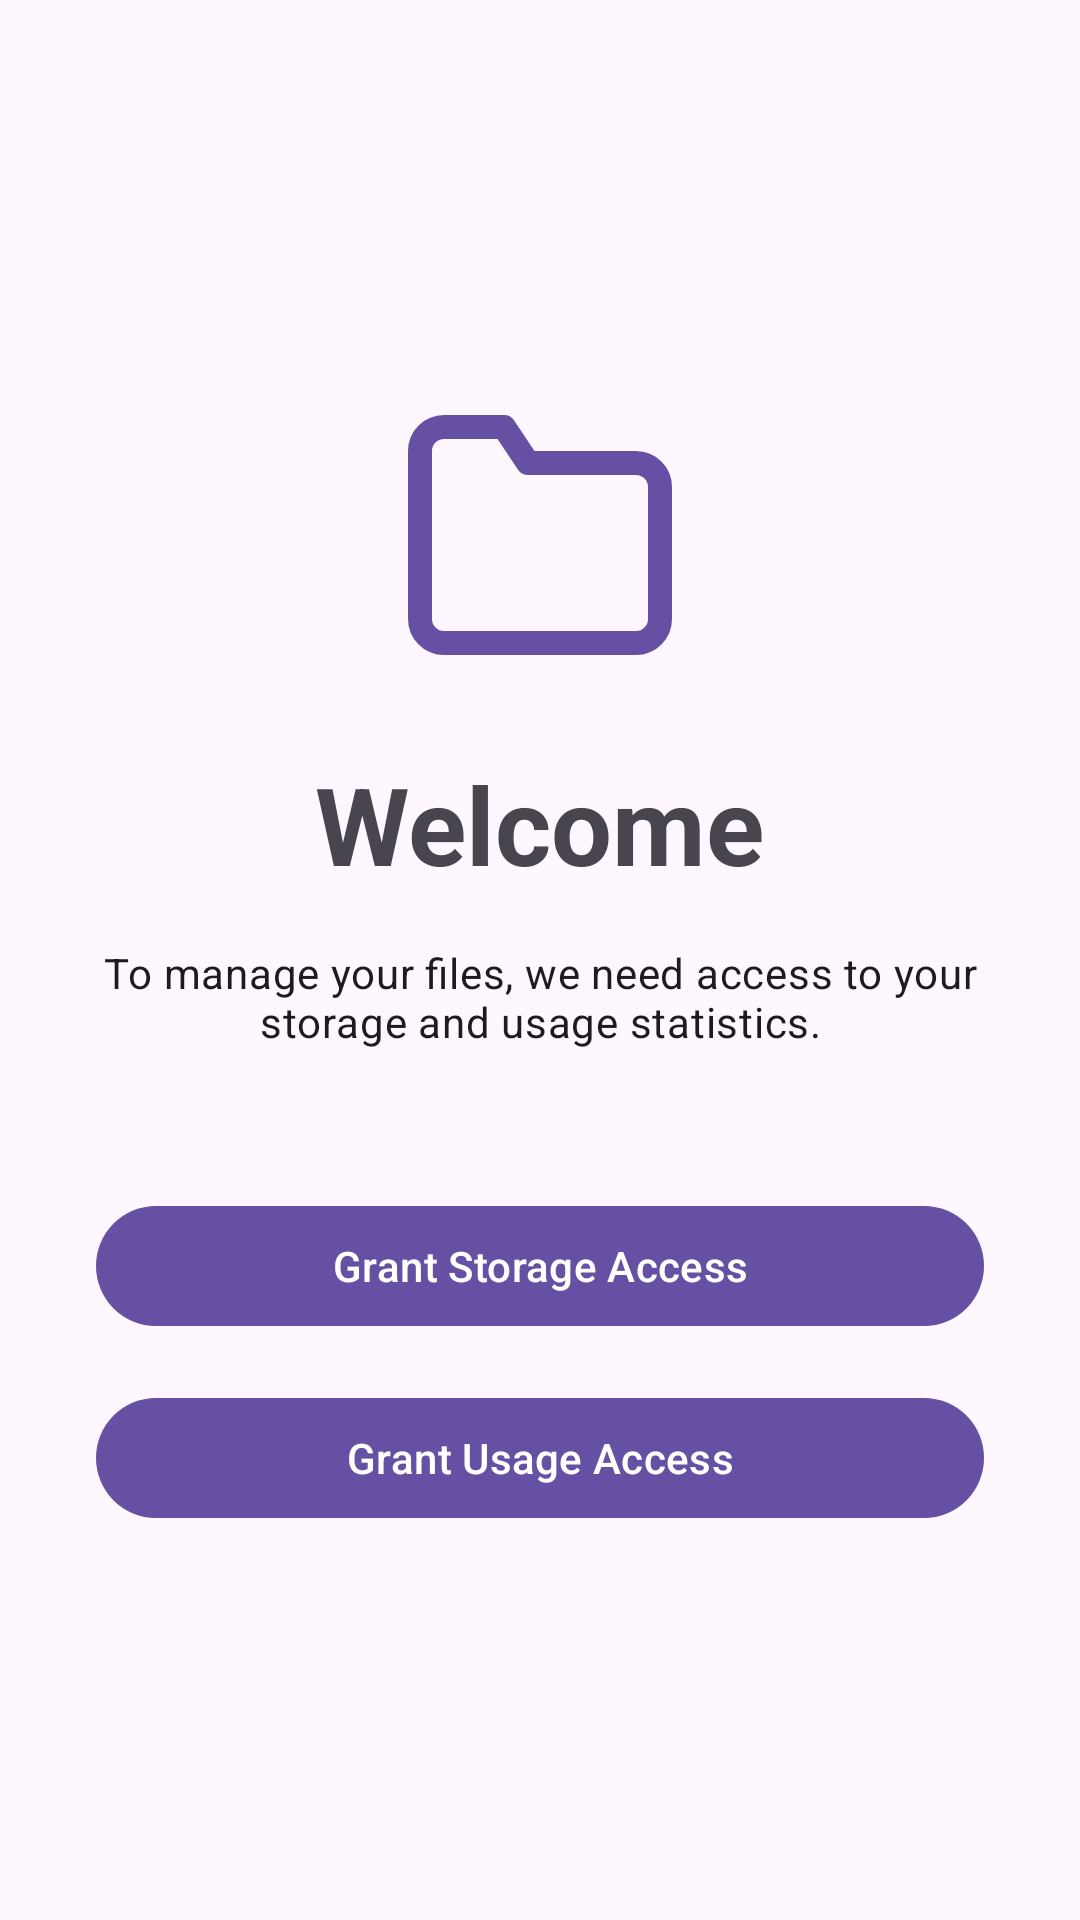

Screen size 1080w x 1920h. Icon name, then its box in pixels as detection(x1, y1, x2, y2):
folder: detection(408, 415, 672, 655)
